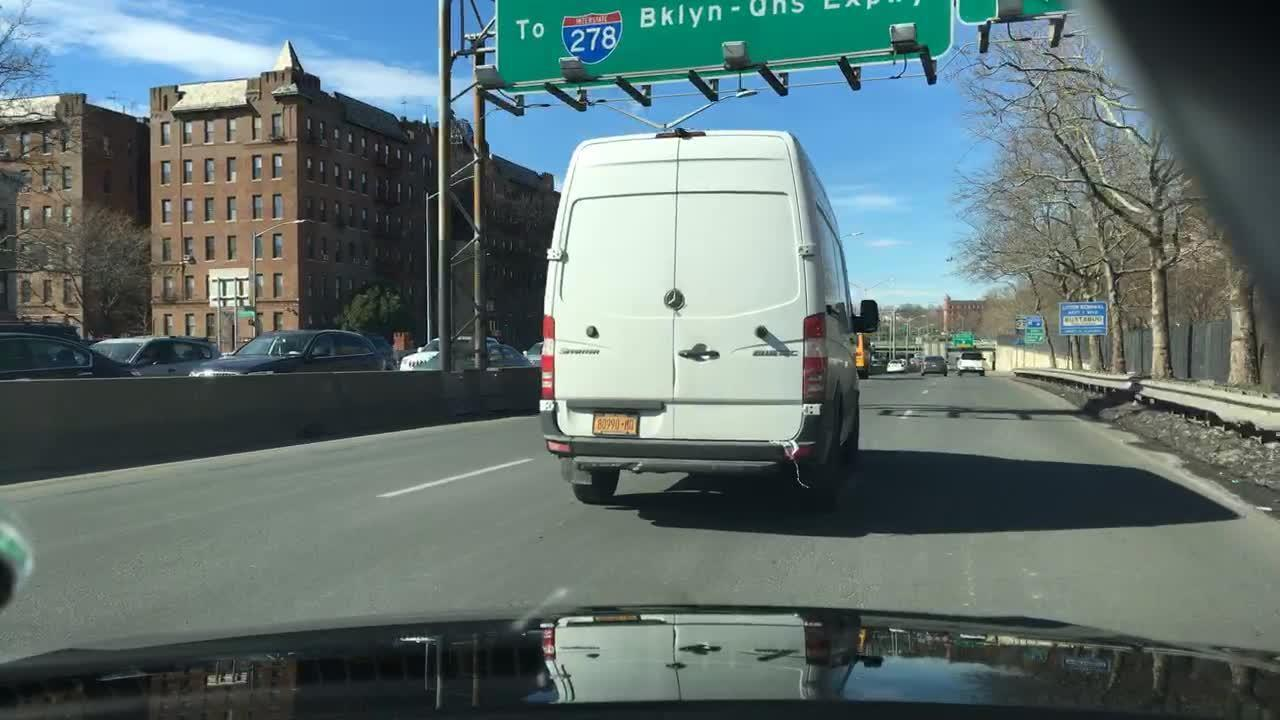Mercedes: (656, 282, 693, 321)
